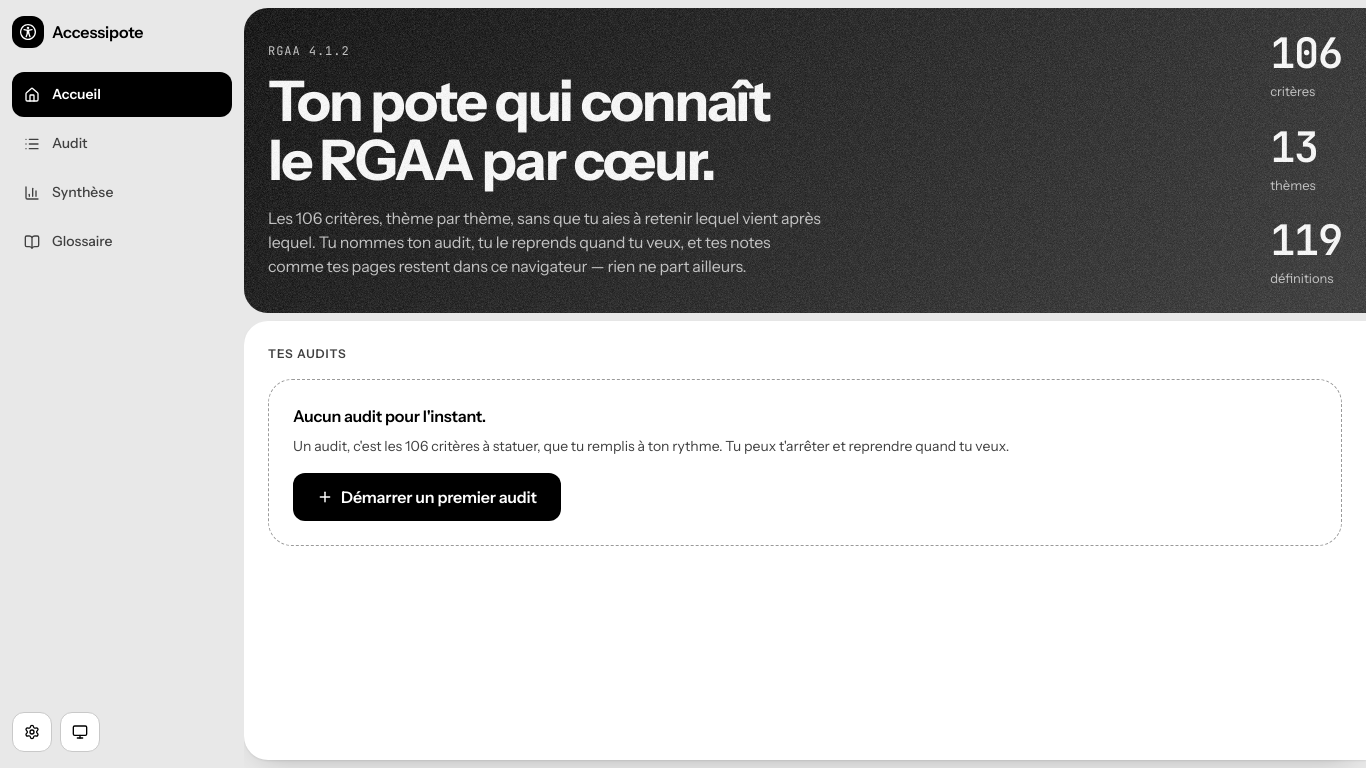
Test: App — navigation entre les vues › propose de démarrer un premier audit quand le magasin est vide
Step 1. Click the button "Audit" → (122, 144), box [12,121,232,166]
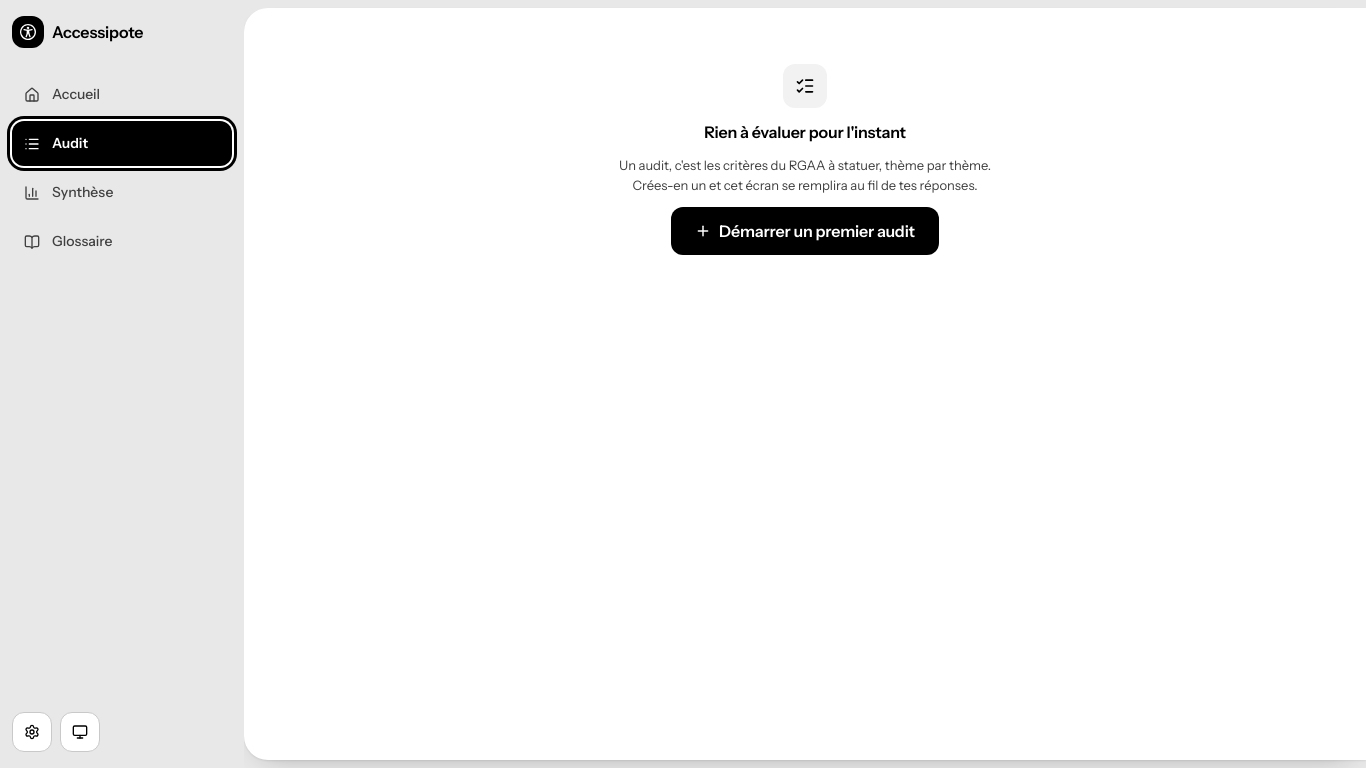
Now the heading "Rien à évaluer pour l'instant" is shown, box [704,120,906,144]
Step 2. Click the button "Démarrer un premier audit" → (805, 231), box [671,207,939,255]
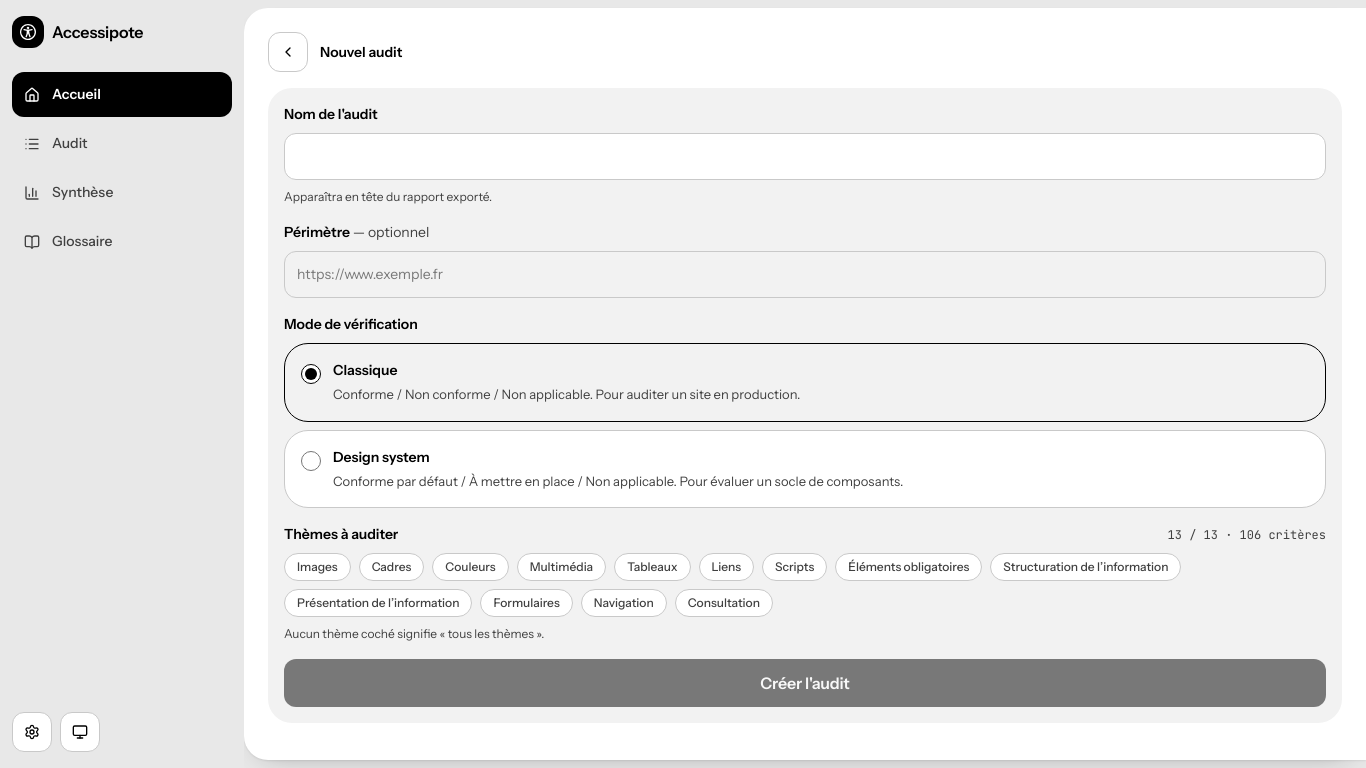
Now the field labelled "Nom de l'audit" is shown, box [284,133,1326,180]
